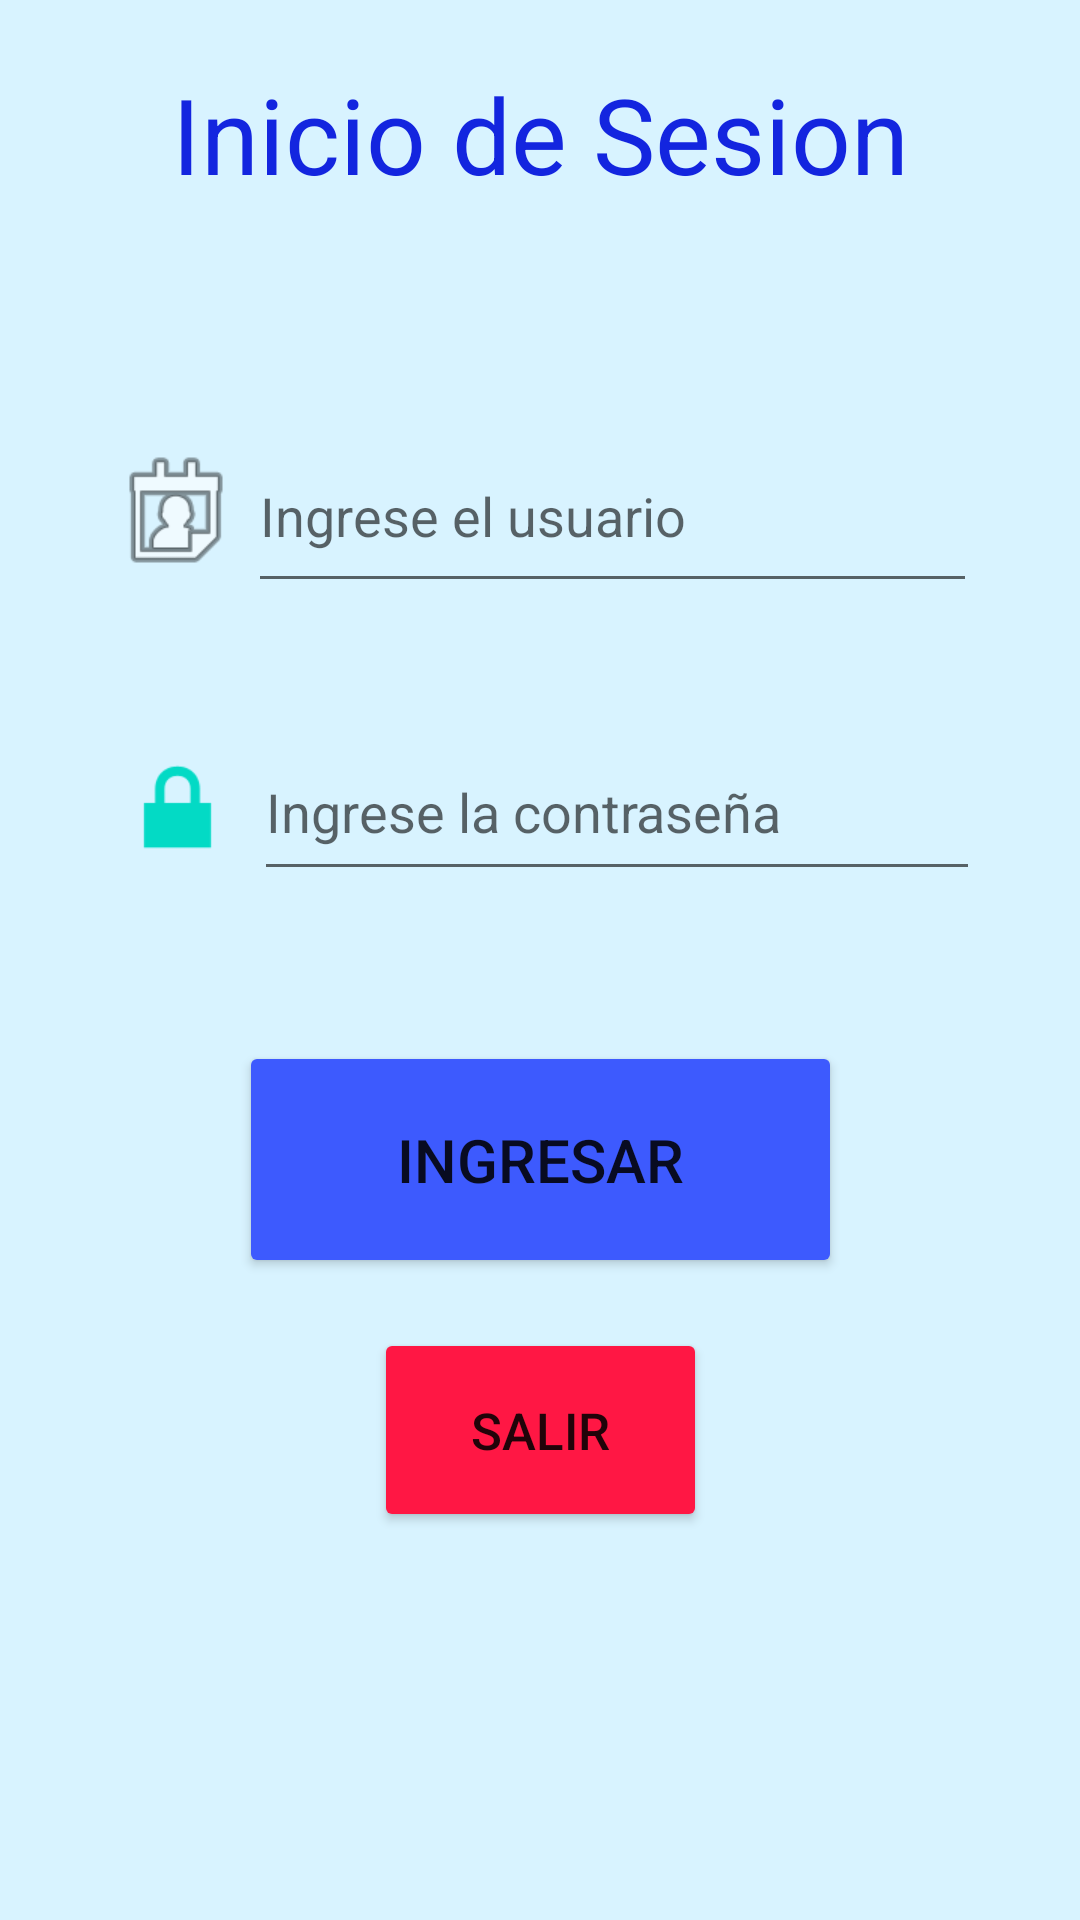

Named icons in this screenshot (1080 x 1920) and their centers, point (x, y):
calendar: point (176, 510)
lock: point (177, 807)
